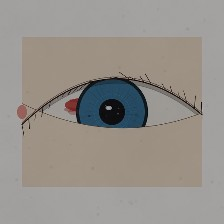hemorrhage_spot: (53, 71, 137, 139)
